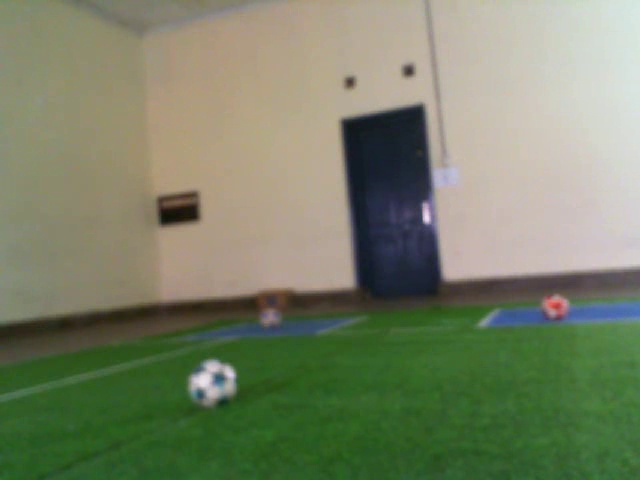ball: (182, 353, 240, 413), (538, 290, 574, 324), (256, 302, 287, 333)
